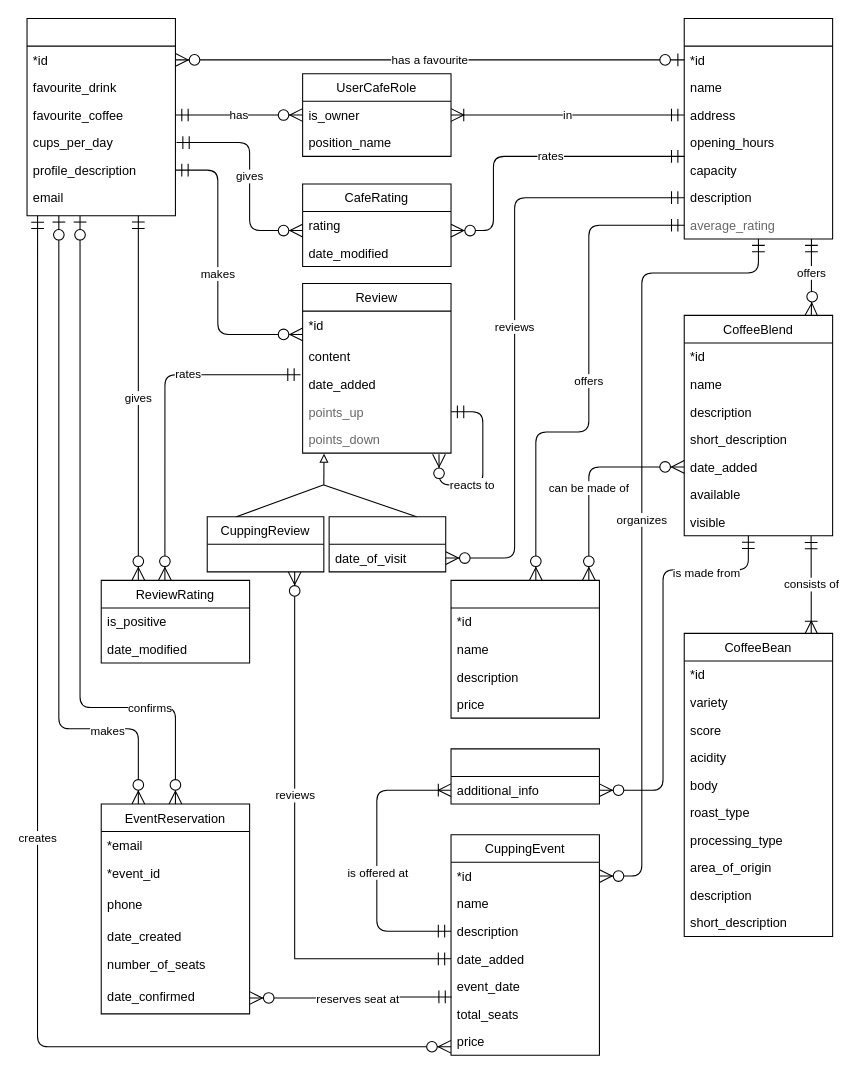
The diagram is 856 pixels wide and 1079 high, and some of its shapes have lost their labels. Here are the shapes that lost their labels. From the top down, the box of each, then its label:
(26, 17, 175, 216): User
(683, 17, 833, 239): Cafe
(328, 516, 446, 572): CafeReview
(450, 579, 599, 718): DrinkOffer
(450, 748, 599, 804): CuppingEventOffer
